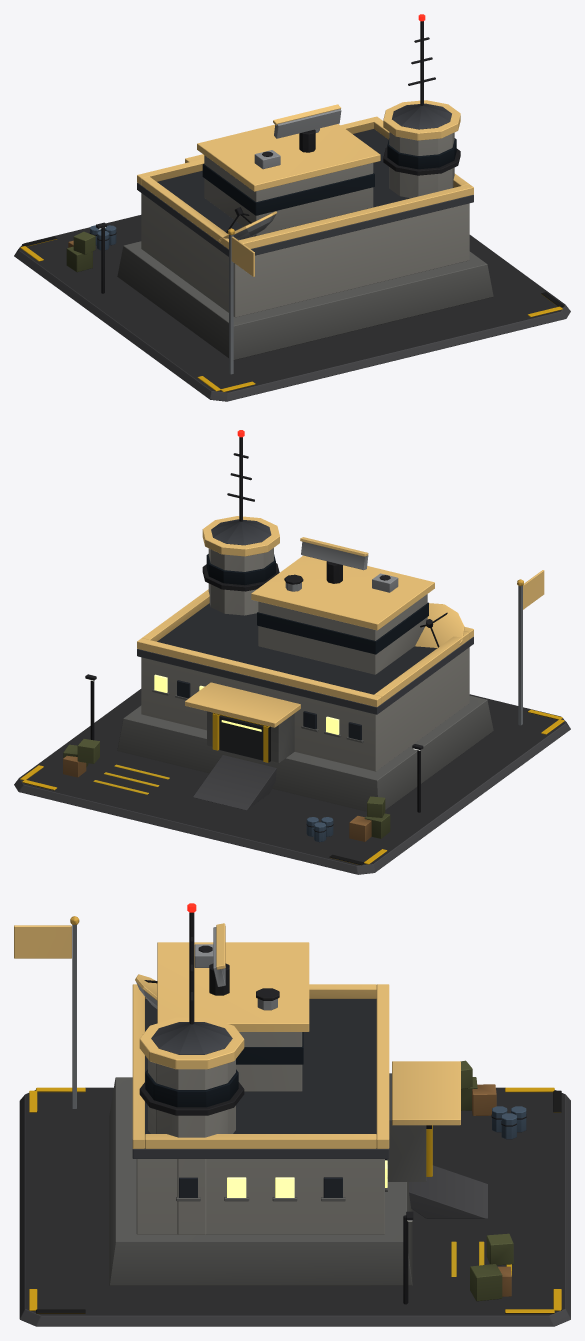
The model's file is command_center.glb.
3 renders of one model, top to bottom at view 1: azimuth 30°, elevation 25°; view 2: azimuth 150°, elevation 25°; view 3: azimuth 270°, elevation 25°, orthographic. The views are drawn at different scales.
Parts seen in each view (by area): view 1: command_center; view 2: command_center; view 3: command_center.
Boxes of the visible parts, x1,y1,x2,y2 form: command_center: (14,14,570,401); command_center: (14,430,570,874); command_center: (14,903,570,1326).
Bounding box in the file's own units: 4 × 2.91 × 4.04.
